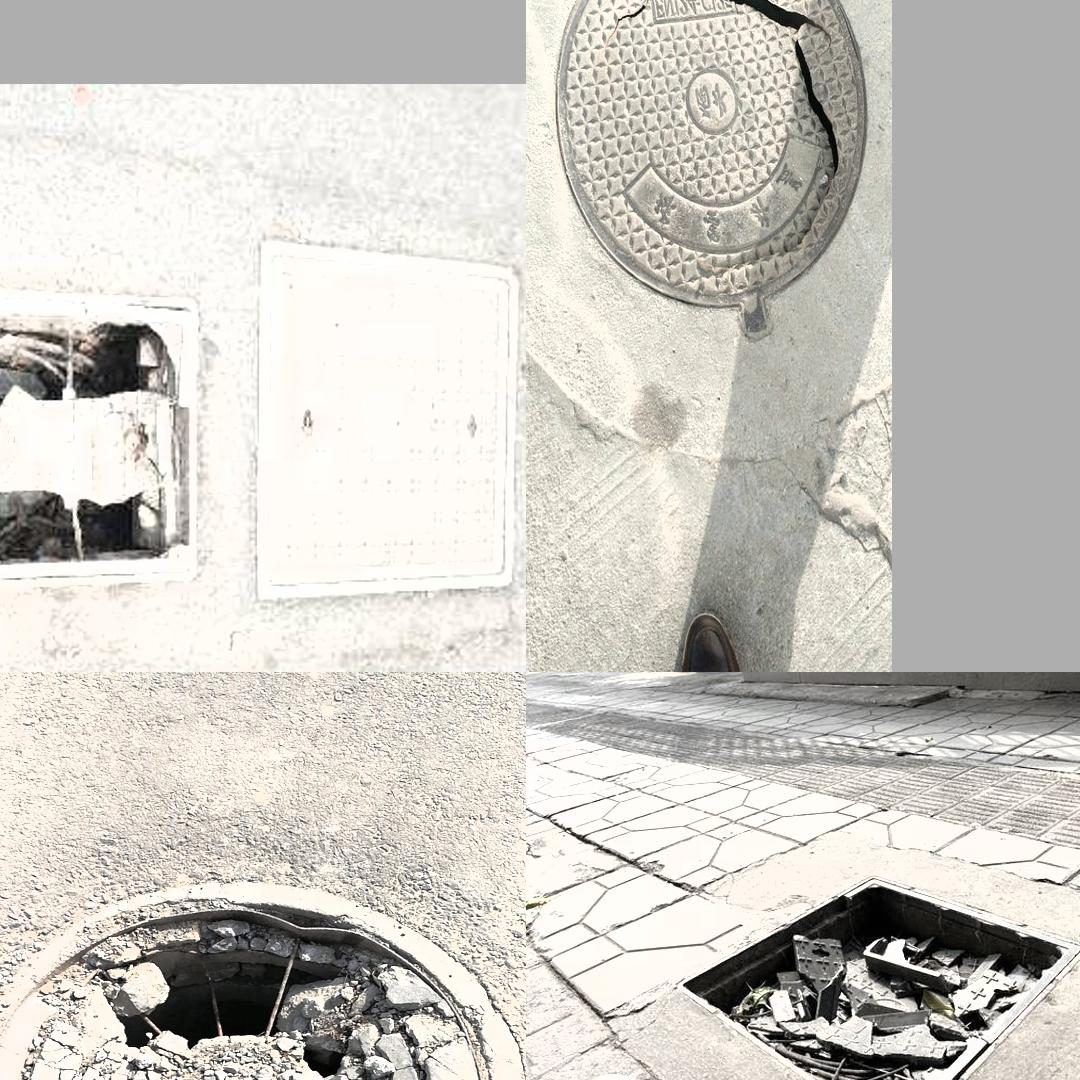broke: (530, 0, 881, 412), (571, 839, 1080, 1080), (0, 885, 526, 1080), (0, 282, 202, 599)
good: (255, 242, 519, 601)
